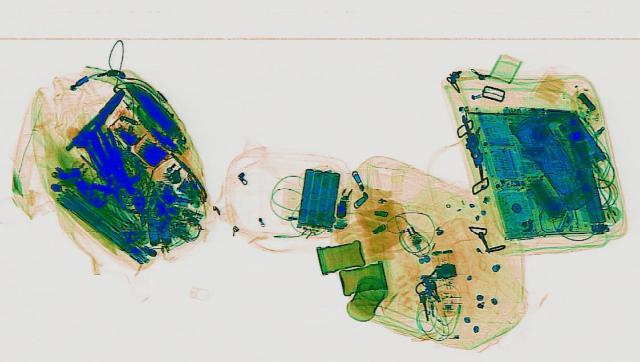Pliers: (62, 87, 130, 150)
